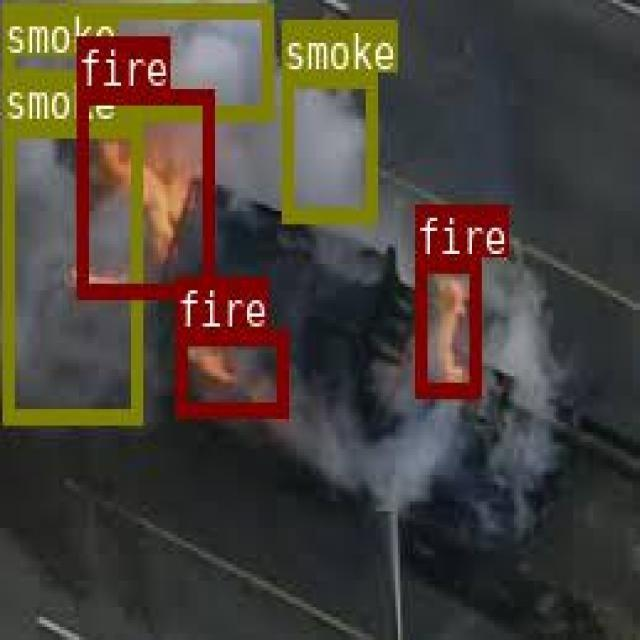fire: (77, 88, 213, 296), (174, 328, 285, 415), (414, 257, 477, 396)
smoke: (2, 121, 140, 422), (1, 0, 270, 118), (281, 72, 375, 218)
